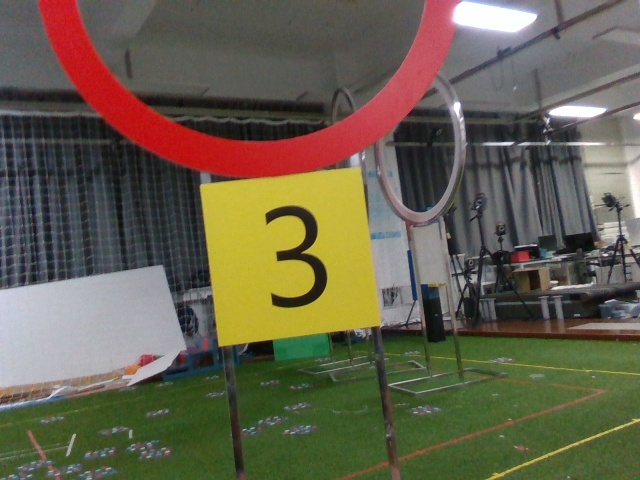target: (214, 177, 366, 330)
